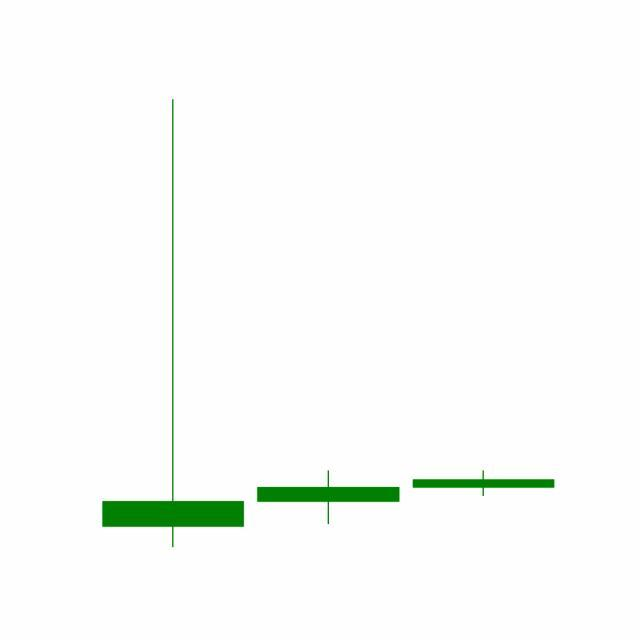Spinning Top: (250, 470, 407, 527)
